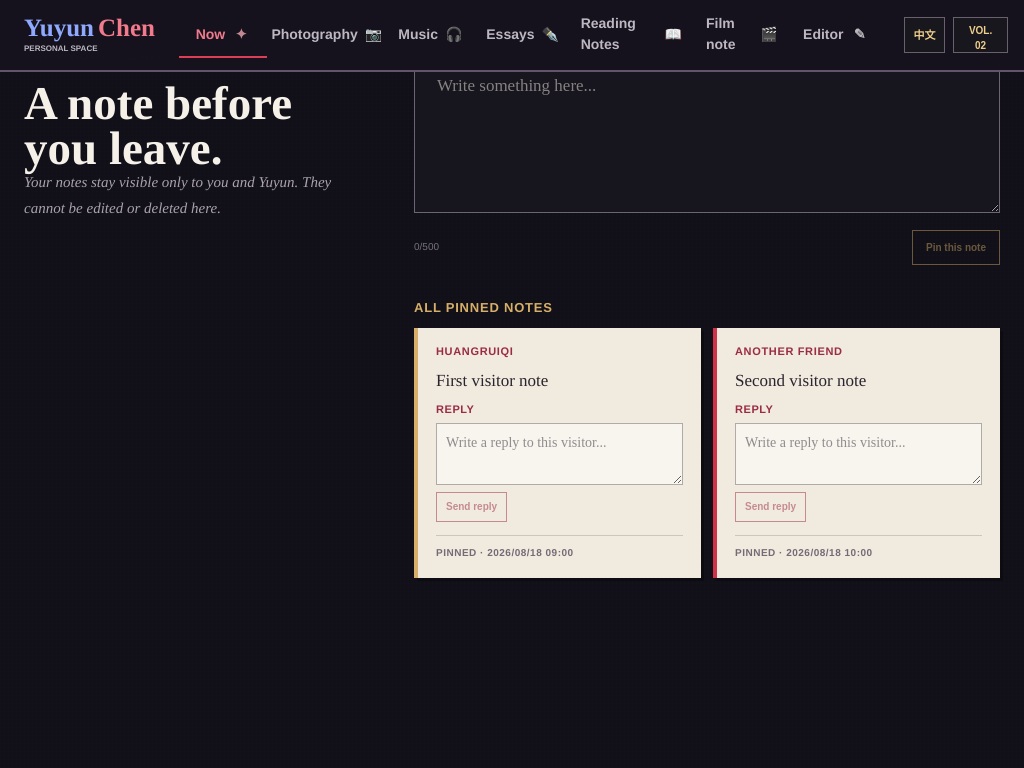
Test case: owner session restoration › shows every visitor guestbook note to the owner on the ordinary Now page
(page scrolled)
Expected: the text "All pinned notes" is shown, [414,300,553,315]
Expected: the text "HuangRuiQi" is shown, [436,346,514,358]
Type "I saw this." into the text box with placeholder "Write a reply to this visitor..." below "First visitor note" at (560, 454), box [436,422,683,484]
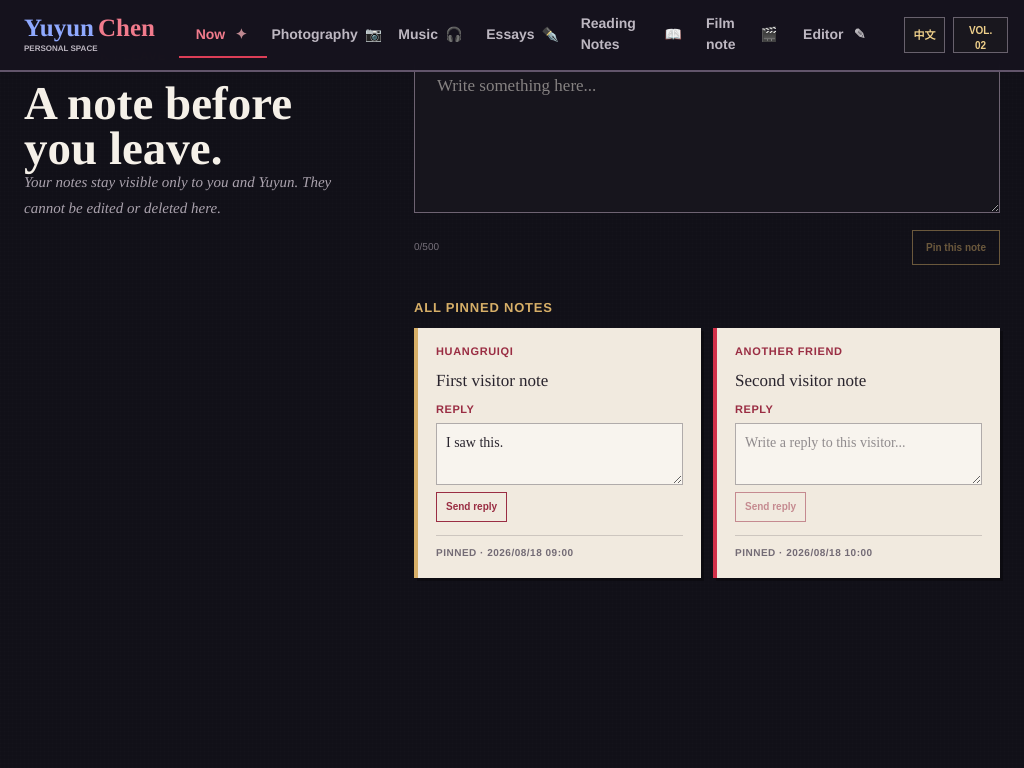
Click the button "Send reply" below "First visitor note" at (472, 506), box [436,492,507,522]
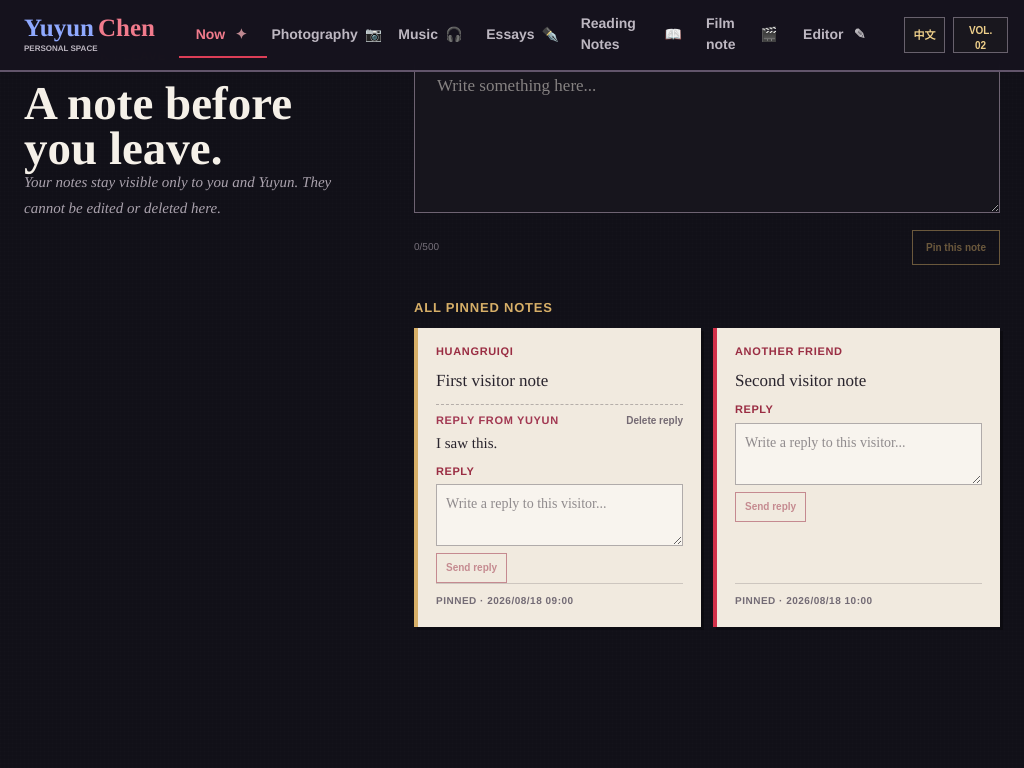
Expected: the text box with placeholder "Write a reply to this visitor..." below "I saw this." is empty, [436,484,683,546]
Expected: the text "I saw this." is shown, [436,436,497,452]
Click the button "Delete reply" at (655, 422), box [626,416,683,428]
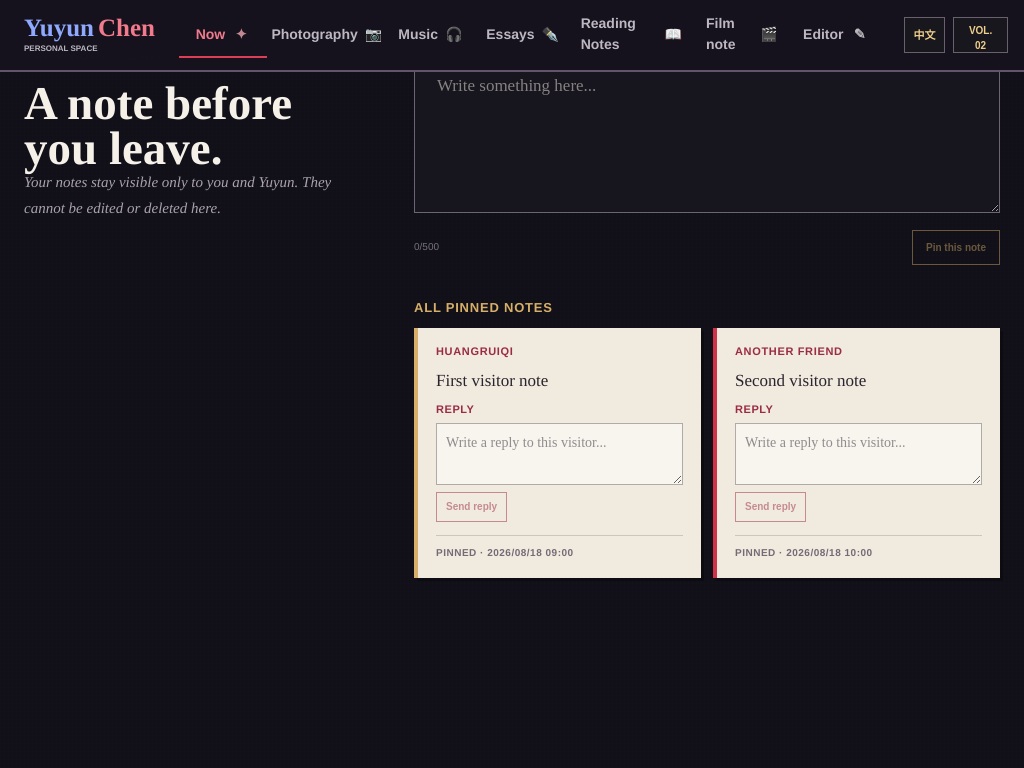
Expected: the text "I saw this." is gone
